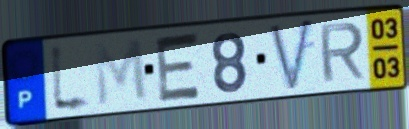8: (210, 31, 251, 95)
E: (154, 30, 205, 105)
L: (48, 39, 96, 118)
M: (92, 36, 151, 110)
R: (316, 19, 367, 85)
V: (266, 15, 316, 95)
